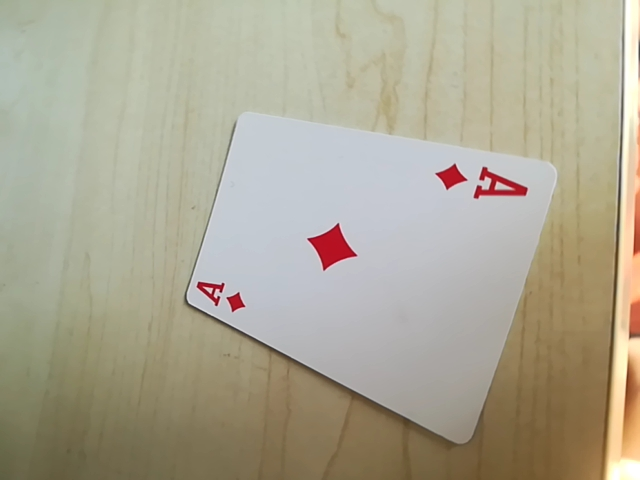fk a: (436, 159, 531, 207), (190, 273, 252, 320)
